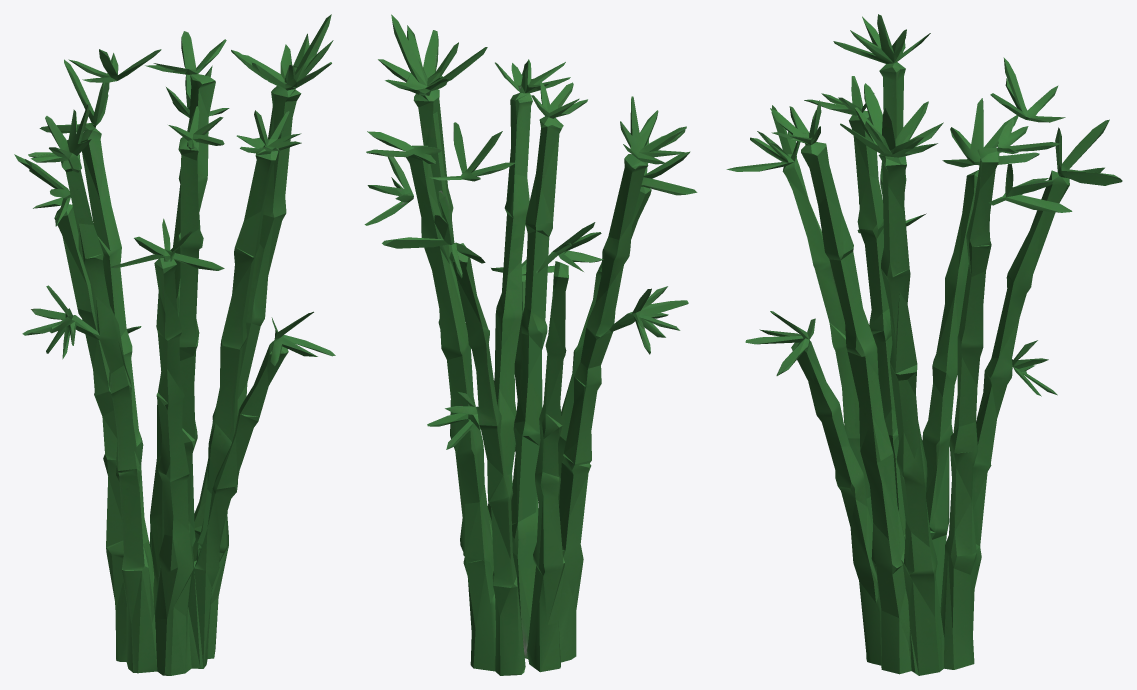
The model's file is bamboo-cluster.glb.
3 views of the same model, side by side, from view 1: azimuth 30°, elevation 25°; view 2: azimuth 150°, elevation 25°; view 3: azimuth 270°, elevation 25° (orthographic). The views are drawn at different scales.
Bounding box in the file's own units: 0.9819 × 1.9 × 1.1.
Materials: 1 (1 with a texture image).
